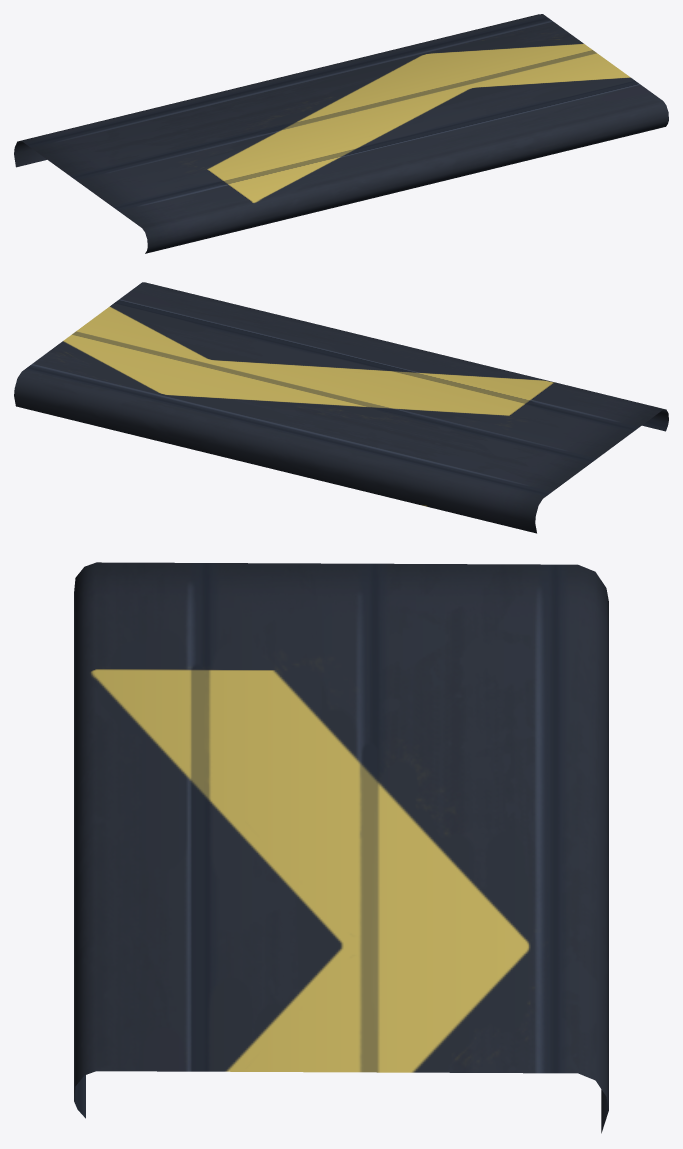
Rendered from TrashMan Conveyor Belt 4.fbx.
The picture shows the model from 3 angles, top to bottom: view 1: azimuth 30°, elevation 25°; view 2: azimuth 150°, elevation 25°; view 3: azimuth 270°, elevation 25°; orthographic projection. The views are drawn at different scales.
Parts seen in each view (by area): view 1: Trash Man Conveyor Belt 4; view 2: Trash Man Conveyor Belt 4; view 3: Trash Man Conveyor Belt 4.
Boxes of the visible parts, x1,y1,x2,y2 form: Trash Man Conveyor Belt 4: [14, 14, 668, 253]; Trash Man Conveyor Belt 4: [14, 282, 668, 533]; Trash Man Conveyor Belt 4: [74, 562, 608, 1133].
Bounding box in the file's own units: 1869 × 108 × 831.
